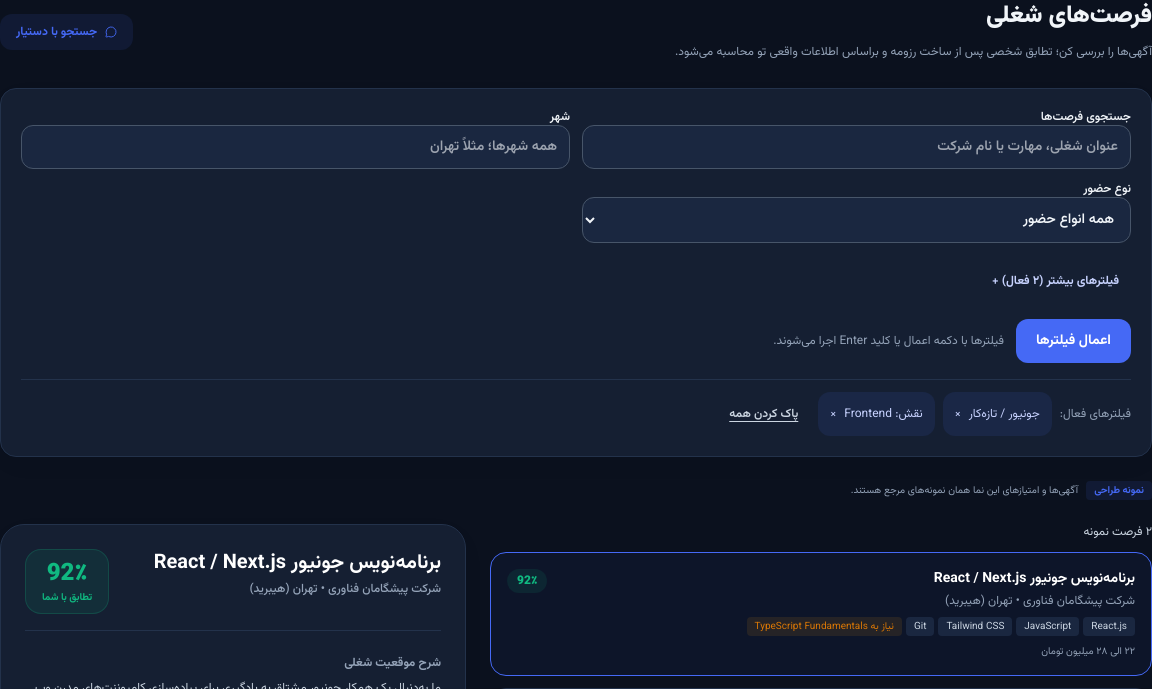
Test: Reference job discovery › supports hybrid and remote filters with an empty state
Select "ترکیبی (حضوری و دورکاری)" in the dropdown labelled "نوع حضور": (856, 220) [582,197,1131,243]
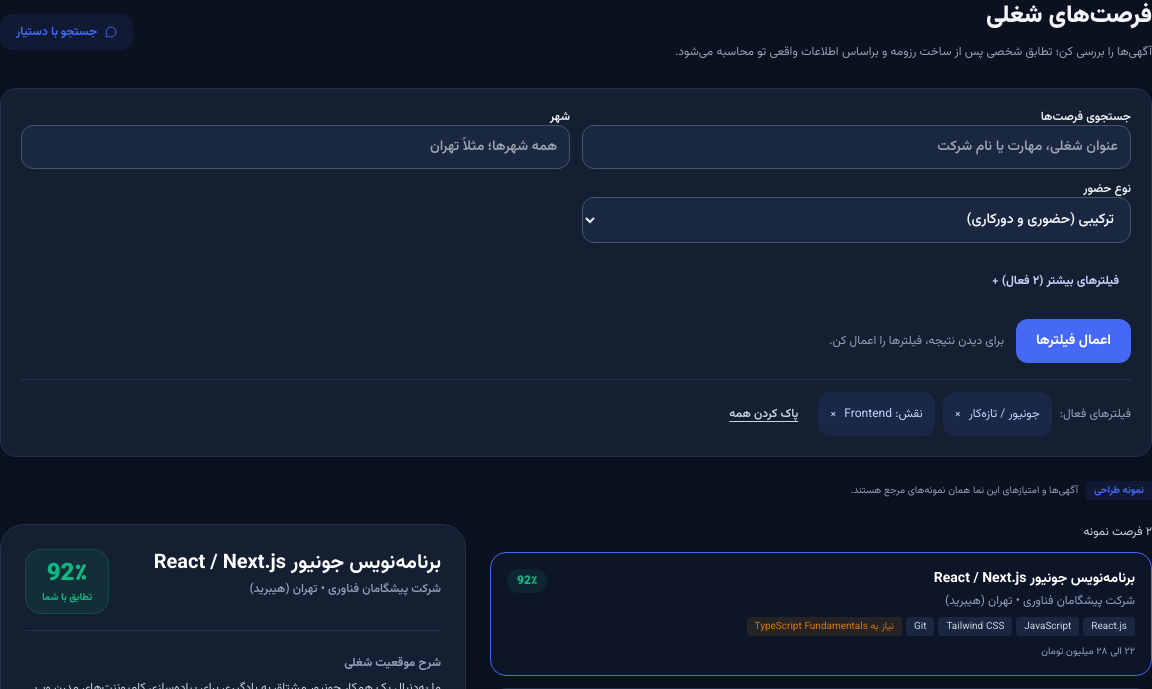
Click the button "اعمال فیلترها": (1074, 341) [1016,319,1131,363]
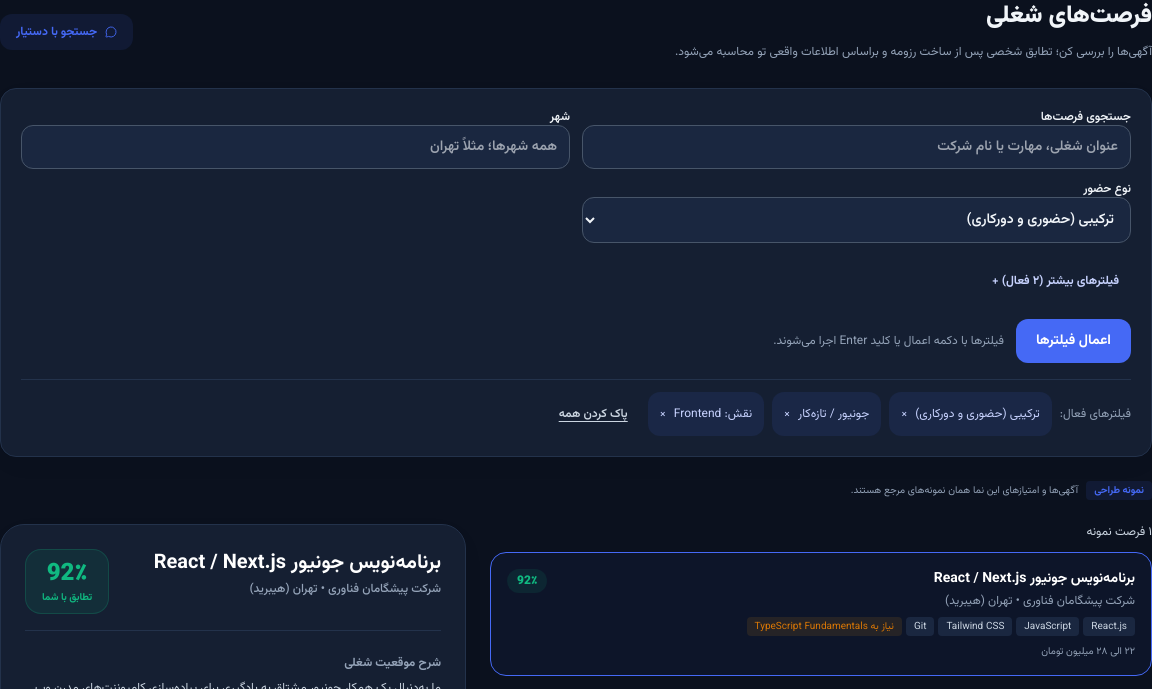
Expected: the number of buttons "شرکت پیشگامان فناوری" is 1, [490,552,1151,676]
Select "دورکاری" in the dropdown labelled "نوع حضور": (856, 220) [582,197,1131,243]
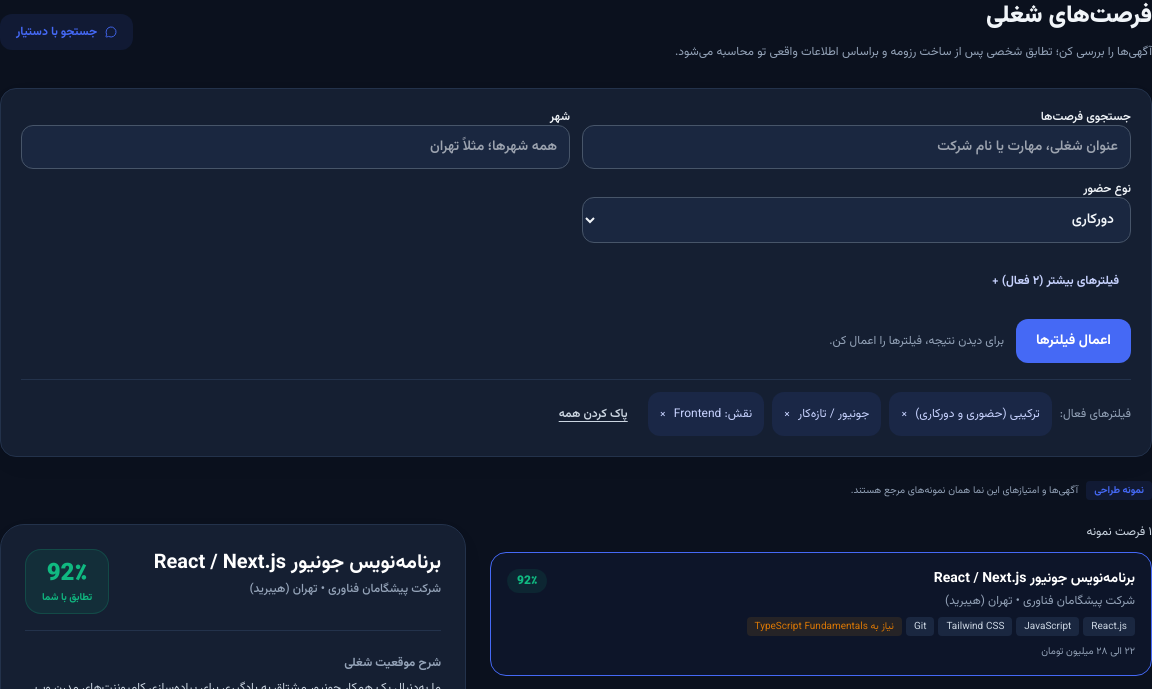
Click the button "اعمال فیلترها": (1074, 341) [1016,319,1131,363]
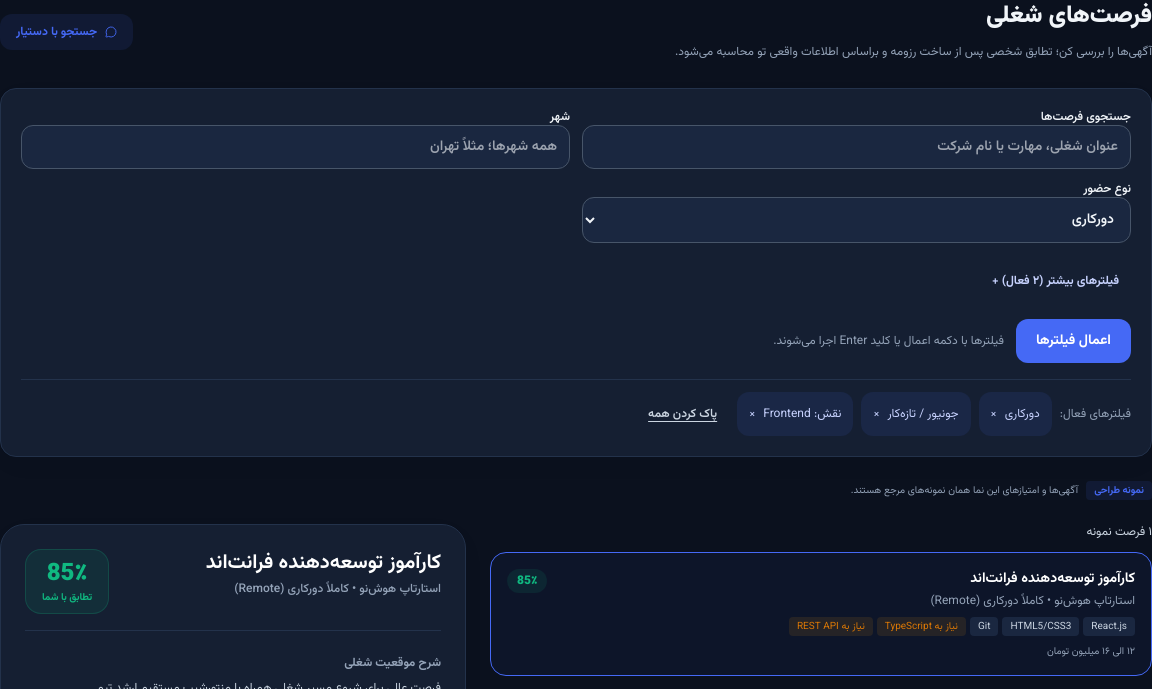
Expected: the number of buttons "استارتاپ هوش‌نو" is 1, [490,552,1151,676]
In the search field labelled "جستجوی فرصت‌ها": (856, 147) [582,125,1131,169], type "not-found"
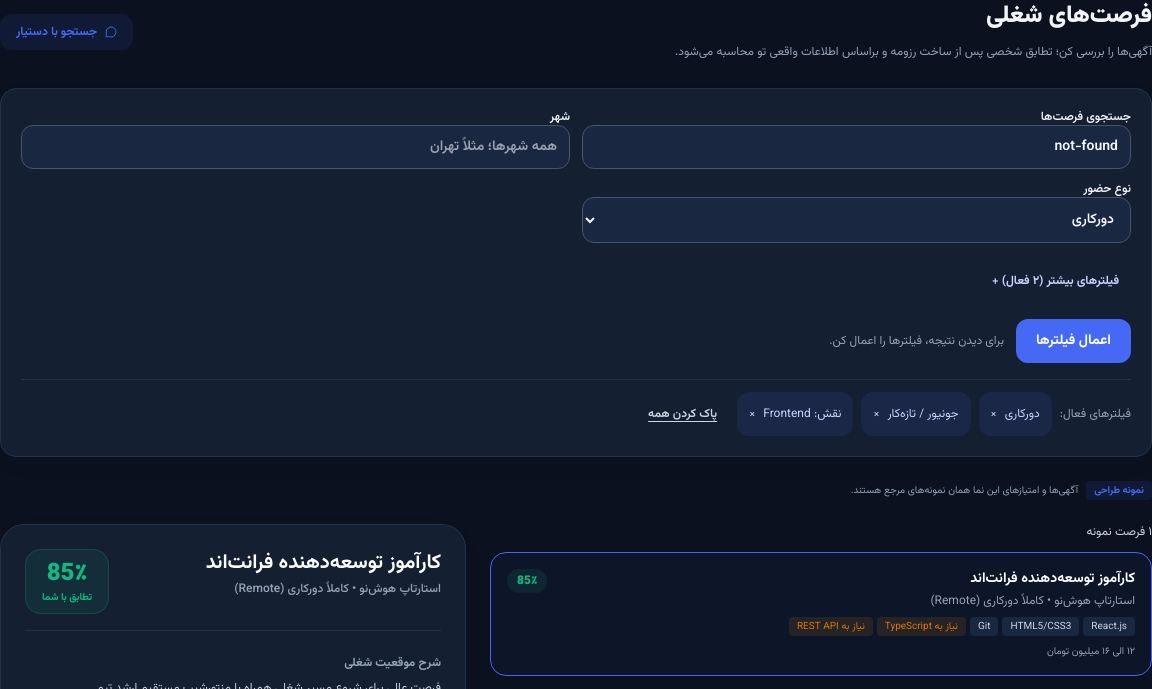
Click the button "اعمال فیلترها": (1074, 341) [1016,319,1131,363]
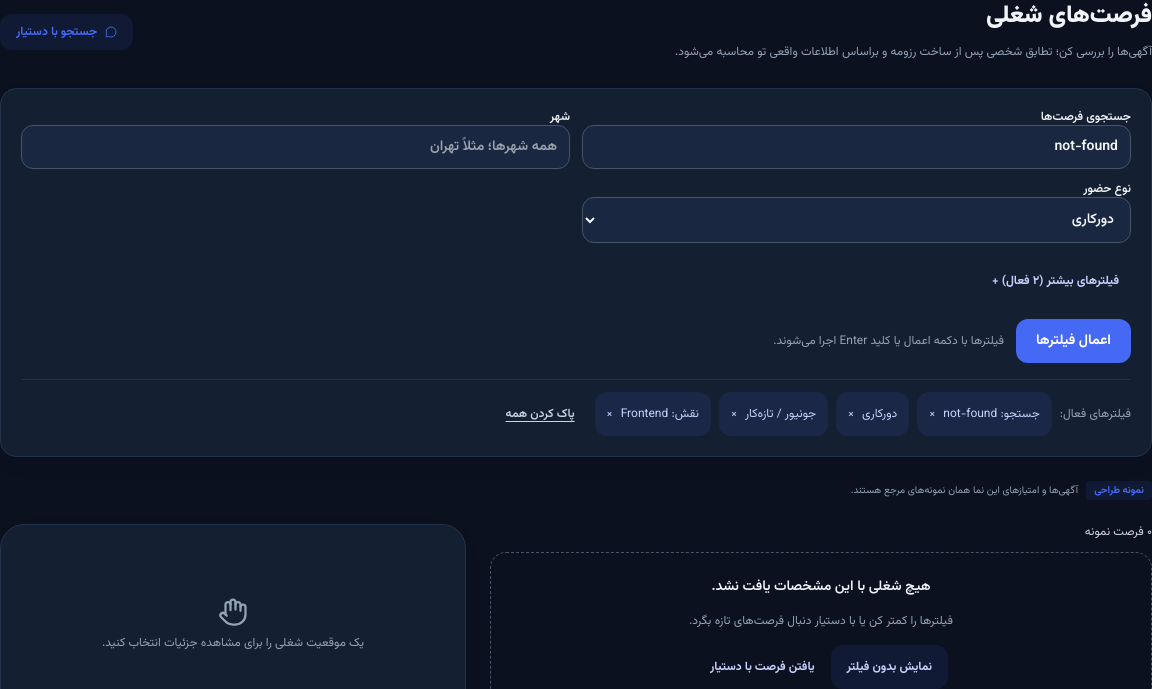
Expected: the text "هیچ شغلی با این مشخصات یافت نشد." is shown, [711,576,931,598]
